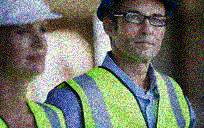helmet: (95, 1, 177, 60), (1, 1, 64, 76)
